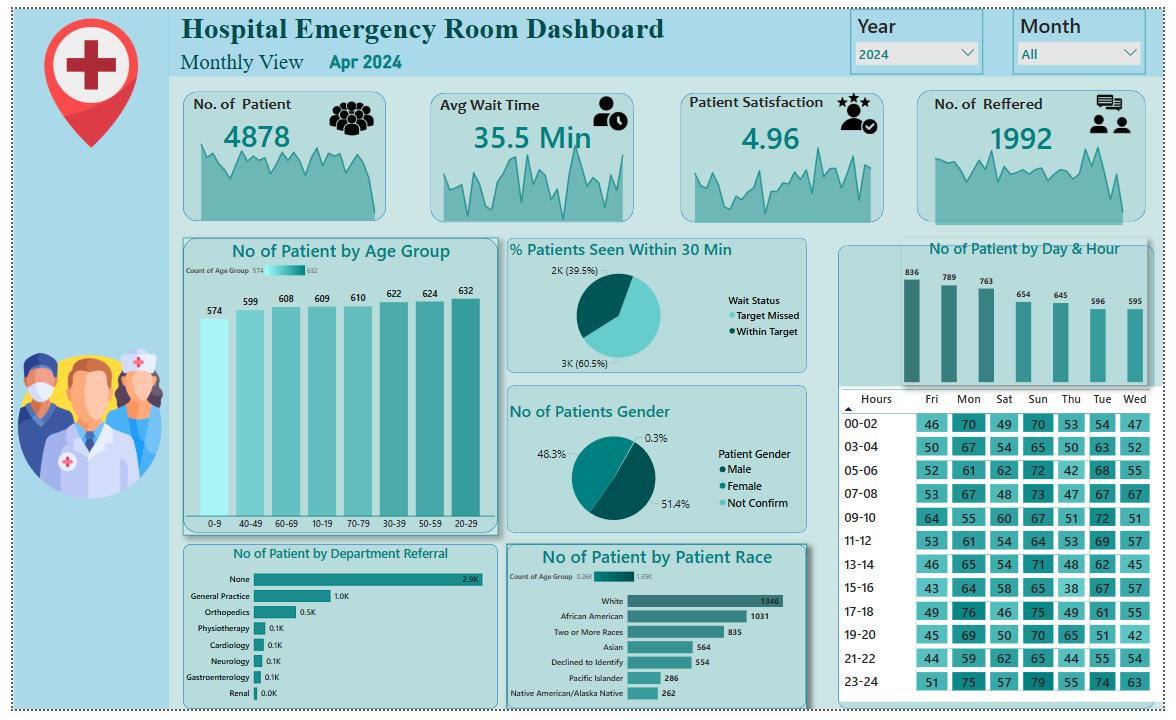

The page's visual inventory and layout, read from the dashboard file:
{"tool":"powerbi","page":{"name":"Page 1","canvas":[2300,1400],"ordinal":0},"visuals":[{"type":"shape","box":[310,0,1990,135],"z":0},{"type":"shape","box":[1806.2,162.5,457.5,262.5],"z":0,"group":"g3"},{"type":"shape","box":[340.5,165.9,406.1,259.2],"z":0,"group":"g4"},{"type":"shape","box":[1334.4,166,406.1,259.2],"z":0,"group":"g2"},{"type":"shape","box":[835.6,168.5,406.1,259.2],"z":0,"group":"g1"},{"type":"shape","box":[2.5,0,310,1400],"z":1000},{"type":"textbox","box":[1254.4,159.6,470,87.5],"z":1000,"group":"g2"},{"type":"textbox","box":[1832.1,163.7,236.9,80.4],"z":1000,"group":"g3"},{"type":"textbox","box":[340.5,165.9,236.9,80.4],"z":1000,"group":"g4"},{"type":"textbox","box":[835.6,168.5,236.9,80.4],"z":1000,"group":"g1"},{"type":"areaChart","fields":{"Category":["Date Table.Date.Variation.Date Hierarchy.Day"],"Y":["Hospital ER_Data.No of Patient"]},"box":[349.3,231.1,435,197.5],"z":2000,"group":"g4"},{"type":"areaChart","fields":{"Category":["Date Table.Date.Variation.Date Hierarchy.Day"],"Y":["Hospital ER_Data.satisfaction Score"]},"box":[1337.4,246.2,440,185],"z":2000,"group":"g2"},{"type":"areaChart","fields":{"Category":["Date Table.Date.Variation.Date Hierarchy.Day"],"Y":["Avg(Hospital ER_Data.Patient Waittime)"]},"box":[836.7,257.2,447.5,175],"z":2000,"group":"g1"},{"type":"areaChart","fields":{"Category":["Date Table.Date.Variation.Date Hierarchy.Day"],"Y":["Hospital ER_Data.Patient Referred"]},"box":[1815.6,258.7,467.5,177.5],"z":2000,"group":"g3"},{"type":"shape","box":[340,457.5,630,590],"z":2000},{"type":"textbox","box":[264.4,0,1109.6,119.3],"z":3000},{"type":"textbox","box":[311.1,75.2,295.5,64.8],"z":4000},{"type":"card","title":"No. of Patient","fields":{"Values":["Hospital ER_Data.No of Patient"]},"box":[414.8,181.5,145.2,140],"z":4000,"group":"g4"},{"type":"slicer","fields":{"Values":["Date Table.Year"]},"box":[1675,0,265,130],"z":5000},{"type":"slicer","fields":{"Values":["Date Table.Month"]},"box":[2000,0,265,130],"z":6000},{"type":"card","fields":{"Values":["Min(Date Table.Month & Year)"]},"box":[577.5,70,255,65],"z":7000},{"type":"group","id":"g1","title":"Group 1","box":[835.6,168.5,448.6,263.7],"z":8000},{"type":"group","id":"g2","title":"Group 1","box":[1254.4,159.6,523,271.6],"z":9000},{"type":"group","id":"g3","title":"Group 1","box":[1806.2,162.5,476.9,273.8],"z":10000},{"type":"card","title":"No. of Patient","fields":{"Values":["Hospital ER_Data.Avg Wait Time"]},"box":[894.4,181.5,287.8,140],"z":11000},{"type":"card","title":"No. of Patient","fields":{"Values":["Hospital ER_Data.satisfaction Score"]},"box":[1441.4,184.1,145.2,140],"z":12000},{"type":"card","title":"No. of Patient","fields":{"Values":["Hospital ER_Data.Patient Referred"]},"box":[1944.3,184.1,145.2,140],"z":13000},{"type":"group","id":"g4","title":"Group 2","box":[340.5,165.9,443.8,262.7],"z":14000},{"type":"clusteredColumnChart","fields":{"Category":["Hospital ER_Data.Age Group"],"Y":["Hospital ER_Data.No of Patient"]},"box":[340,457.5,630,595],"z":15000},{"type":"clusteredBarChart","fields":{"Y":["Hospital ER_Data.No of Patient"],"Category":["Hospital ER_Data.Department Referral"]},"box":[340,1070,630,330],"z":16000},{"type":"shape","box":[340,1070,630,330],"z":17000},{"type":"shape","box":[987.5,457.5,600,270],"z":18000},{"type":"pieChart","title":"%  Patients Seen Within 30 Min","fields":{"Category":["Hospital ER_Data.Wait Status"],"Y":["Hospital ER_Data.No of Patient"]},"box":[987.5,457.5,600,270],"z":19000},{"type":"pieChart","title":"No of Patients Gender","fields":{"Y":["Hospital ER_Data.No of Patient"],"Category":["Hospital ER_Data.Patient Gender"]},"box":[987.5,782.5,600,270],"z":20000},{"type":"shape","box":[987.5,752.5,600,295],"z":21000},{"type":"shape","box":[987.5,1070,600,330],"z":22000},{"type":"shape","box":[1650,472.5,632.5,927.5],"z":23000},{"type":"clusteredBarChart","fields":{"Y":["Hospital ER_Data.No of Patient"],"Category":["Hospital ER_Data.Patient Race"]},"box":[987.5,1070,600,330],"z":24000},{"type":"pivotTable","fields":{"Rows":["Hospital ER_Data.Waittime Interval"],"Columns":["Date Table.Day Name"],"Values":["Hospital ER_Data.No of Patient"]},"box":[1652.5,755,647.5,630],"z":25000},{"type":"columnChart","title":"No of Patient by Day & Hour","fields":{"Category":["Date Table.Day Name"],"Y":["Hospital ER_Data.No of Patient"]},"box":[1777.5,457.5,490,295],"z":26000},{"type":"image","box":[0,0,312.5,295],"z":27000},{"type":"image","box":[1150,170,90,77.5],"z":28000},{"type":"image","box":[1637.5,160,102.5,97.5],"z":29000},{"type":"image","box":[2120,157.5,150,105],"z":30000},{"type":"image","box":[610,170,135,97.5],"z":31000},{"type":"image","box":[0,257.5,310,1142.5],"z":32000}]}

Visuals, with their boxes in screenshot pixels (x1, y1, x2, y2), scaled from the page's 2300x1400 canvas onto the 1176x720 screenshot:
shape: bbox=(159, 0, 1175, 69)
shape: bbox=(924, 84, 1157, 219)
shape: bbox=(174, 85, 382, 219)
shape: bbox=(682, 85, 890, 219)
shape: bbox=(427, 87, 635, 220)
shape: bbox=(1, 0, 160, 719)
textbox: bbox=(641, 82, 882, 127)
textbox: bbox=(937, 84, 1058, 126)
textbox: bbox=(174, 85, 295, 127)
textbox: bbox=(427, 87, 548, 128)
areaChart - Date Table.Date.Variation.Date Hierarchy.Day x Hospital ER_Data.No of Patient: bbox=(179, 119, 401, 220)
areaChart - Date Table.Date.Variation.Date Hierarchy.Day x Hospital ER_Data.satisfaction Score: bbox=(684, 127, 909, 222)
areaChart - Date Table.Date.Variation.Date Hierarchy.Day x Avg(Hospital ER_Data.Patient Waittime): bbox=(428, 132, 657, 222)
areaChart - Date Table.Date.Variation.Date Hierarchy.Day x Hospital ER_Data.Patient Referred: bbox=(928, 133, 1167, 224)
shape: bbox=(174, 235, 496, 539)
textbox: bbox=(135, 0, 703, 61)
textbox: bbox=(159, 39, 310, 72)
"No. of Patient" card: bbox=(212, 93, 286, 165)
slicer - Date Table.Year: bbox=(856, 0, 992, 67)
slicer - Date Table.Month: bbox=(1023, 0, 1158, 67)
card - Min(Date Table.Month & Year): bbox=(295, 36, 426, 69)
"Group 1" group: bbox=(427, 87, 657, 222)
"Group 1" group: bbox=(641, 82, 909, 222)
"Group 1" group: bbox=(924, 84, 1167, 224)
"No. of Patient" card: bbox=(457, 93, 604, 165)
"No. of Patient" card: bbox=(737, 95, 811, 167)
"No. of Patient" card: bbox=(994, 95, 1068, 167)
"Group 2" group: bbox=(174, 85, 401, 220)
clusteredColumnChart - Hospital ER_Data.Age Group x Hospital ER_Data.No of Patient: bbox=(174, 235, 496, 541)
clusteredBarChart - Hospital ER_Data.No of Patient x Hospital ER_Data.Department Referral: bbox=(174, 550, 496, 719)
shape: bbox=(174, 550, 496, 719)
shape: bbox=(505, 235, 812, 374)
"%  Patients Seen Within 30 Min" pieChart: bbox=(505, 235, 812, 374)
"No of Patients Gender" pieChart: bbox=(505, 402, 812, 541)
shape: bbox=(505, 387, 812, 539)
shape: bbox=(505, 550, 812, 719)
shape: bbox=(844, 243, 1167, 719)
clusteredBarChart - Hospital ER_Data.No of Patient x Hospital ER_Data.Patient Race: bbox=(505, 550, 812, 719)
pivotTable - Hospital ER_Data.Waittime Interval x Date Table.Day Name: bbox=(845, 388, 1175, 712)
"No of Patient by Day & Hour" columnChart: bbox=(909, 235, 1159, 387)
image: bbox=(0, 0, 160, 152)
image: bbox=(588, 87, 634, 127)
image: bbox=(837, 82, 890, 132)
image: bbox=(1084, 81, 1161, 135)
image: bbox=(312, 87, 381, 138)
image: bbox=(0, 132, 159, 719)
